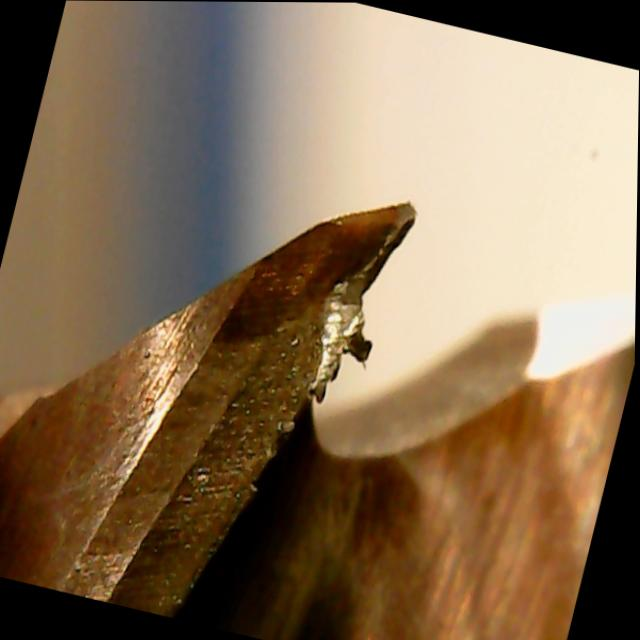Tool-wear-class-2: (186, 158, 429, 437)
